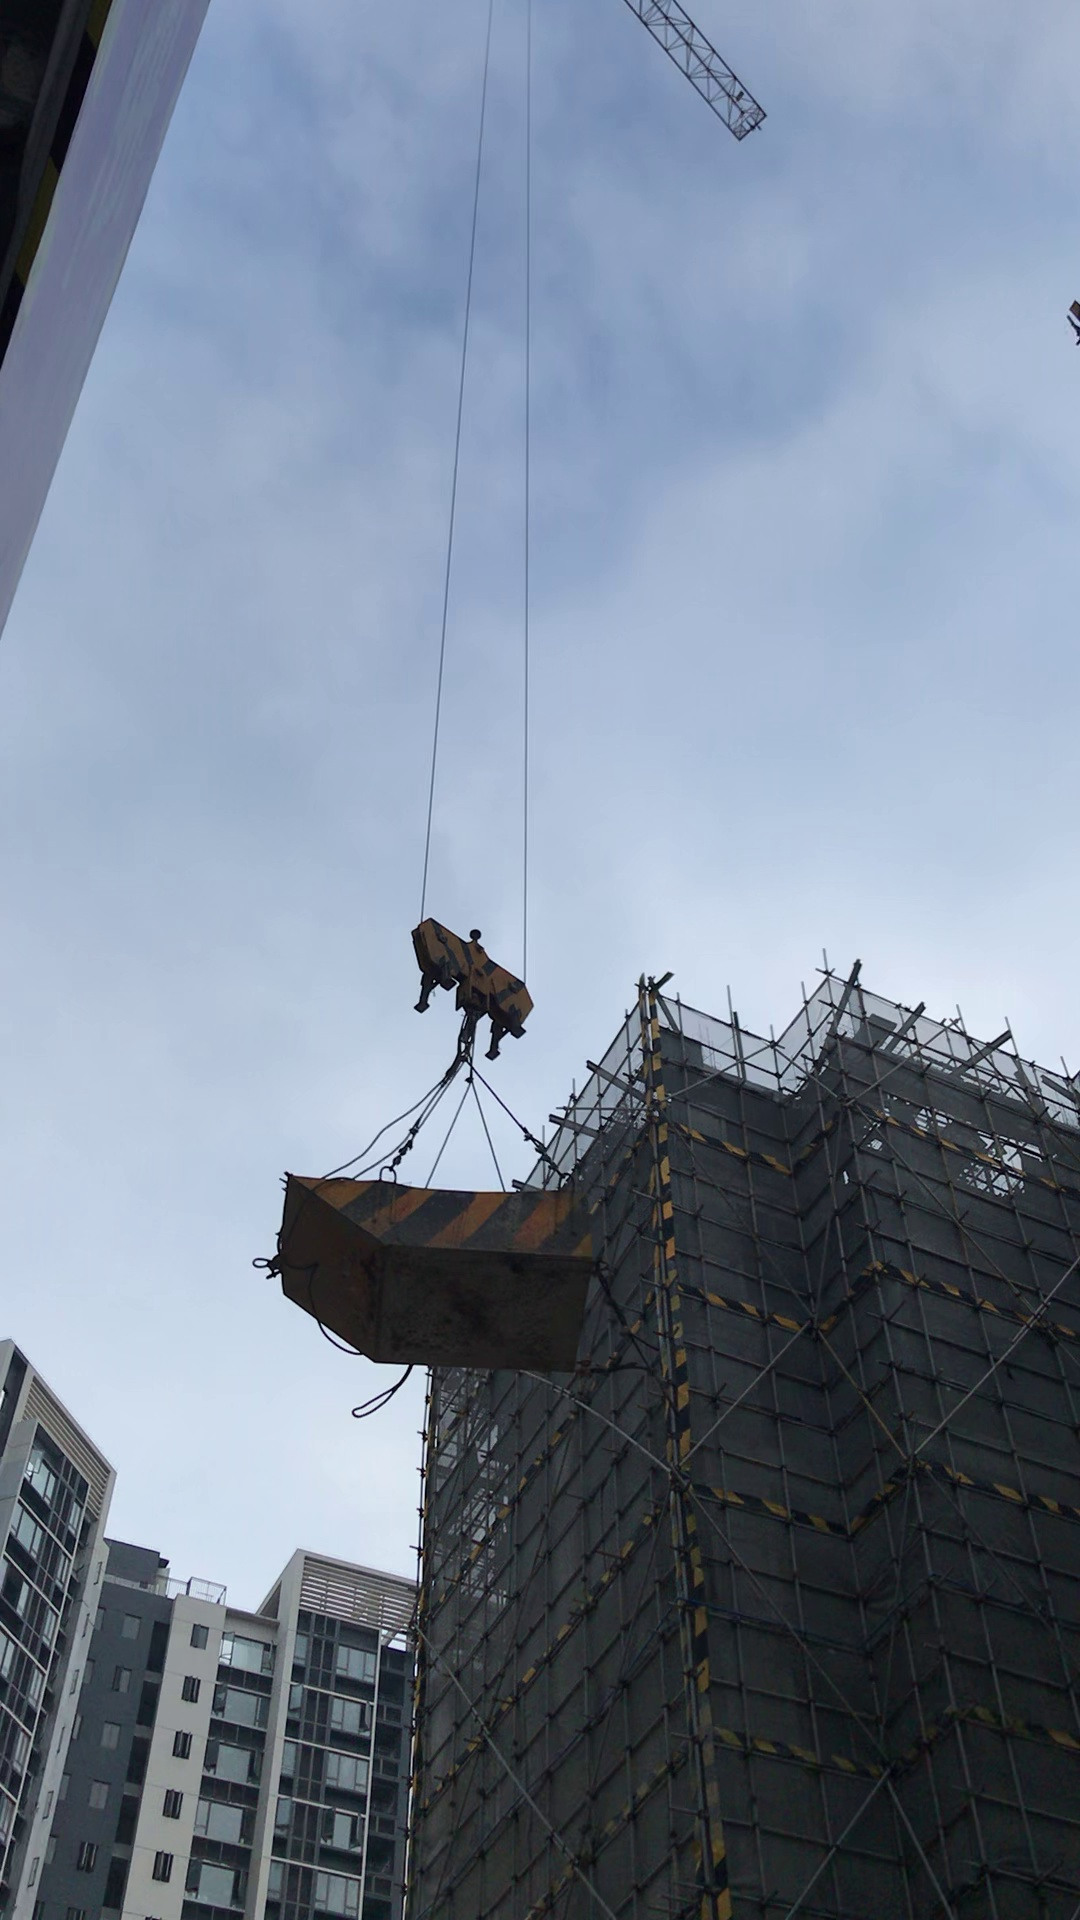hook: (404, 911, 534, 1047)
